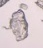microplastic: (3, 9, 30, 42), (34, 1, 43, 11), (19, 2, 28, 11), (1, 1, 10, 9), (39, 18, 43, 23)
